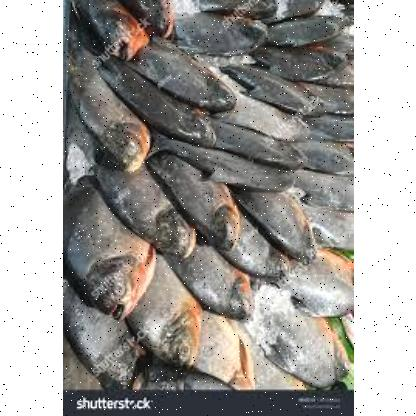ikan-pacu: (61, 195, 152, 313), (129, 253, 201, 369), (169, 242, 252, 318)
